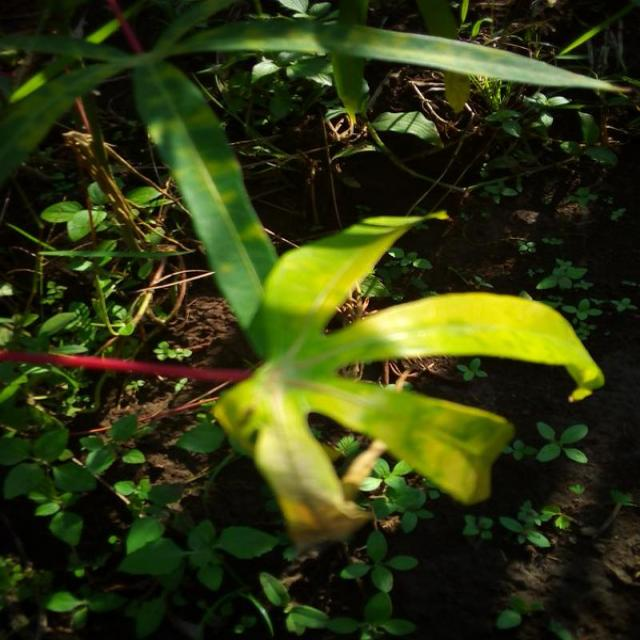cassava leaf: (250, 207, 451, 368), (323, 289, 606, 402)
